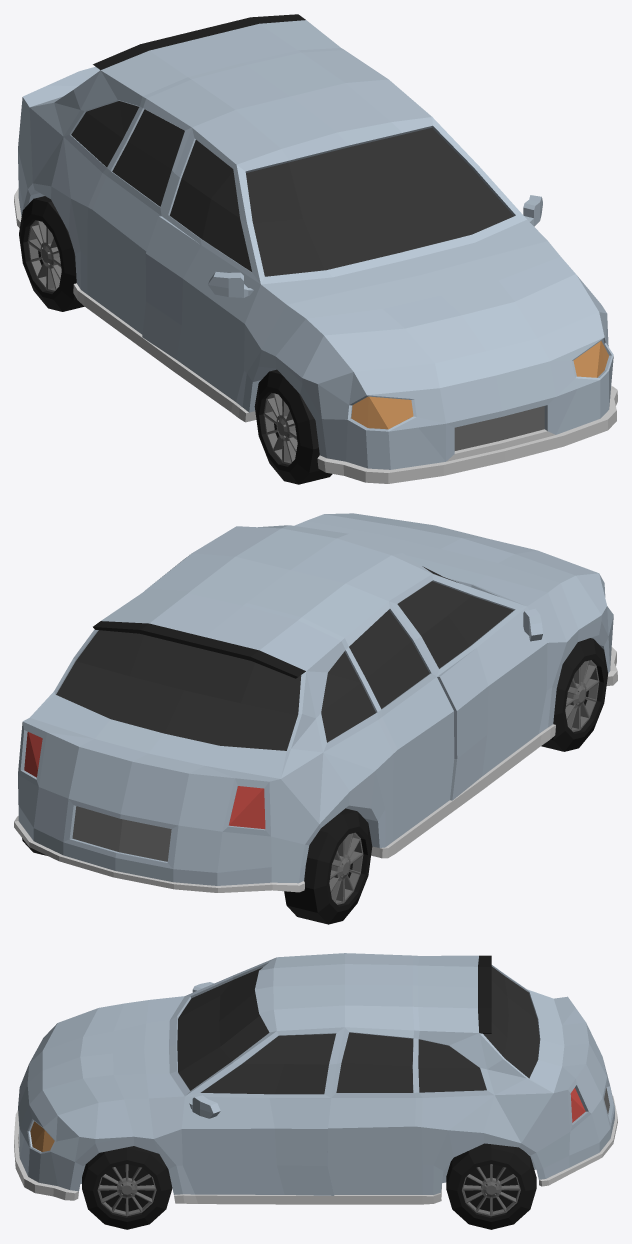
Rendered from t-sedan2.glb.
3 views of the same model, one above another, from view 1: azimuth 30°, elevation 25°; view 2: azimuth 150°, elevation 25°; view 3: azimuth 270°, elevation 25° (orthographic). The views are drawn at different scales.
Visible parts, largest first — view 1: NormalCar2_Cube.002, NormalCar2_FrontRightWheel_Cylinder.016, NormalCar2_BackWheels_Cylinder.003; view 2: NormalCar2_Cube.002, NormalCar2_BackWheels_Cylinder.003, NormalCar2_FrontRightWheel_Cylinder.016; view 3: NormalCar2_Cube.002, NormalCar2_BackWheels_Cylinder.003, NormalCar2_FrontLeftWheel_Cylinder.015.
Boxes of the visible parts, bbox=[...] form: NormalCar2_Cube.002: bbox=[14, 14, 617, 483]; NormalCar2_FrontRightWheel_Cylinder.016: bbox=[254, 369, 332, 484]; NormalCar2_BackWheels_Cylinder.003: bbox=[19, 196, 84, 311]; NormalCar2_Cube.002: bbox=[14, 513, 617, 892]; NormalCar2_BackWheels_Cylinder.003: bbox=[22, 808, 372, 924]; NormalCar2_FrontRightWheel_Cylinder.016: bbox=[541, 638, 607, 751]; NormalCar2_Cube.002: bbox=[14, 953, 617, 1204]; NormalCar2_BackWheels_Cylinder.003: bbox=[446, 1143, 536, 1229]; NormalCar2_FrontLeftWheel_Cylinder.015: bbox=[82, 1146, 172, 1229].
Bounding box in the file's own units: 1.64 × 1.15 × 3.31.
